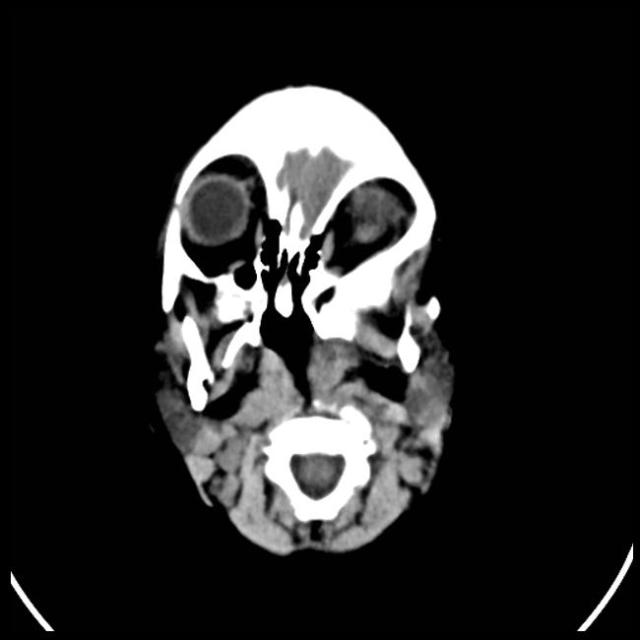lesion: (145, 80, 462, 560)
